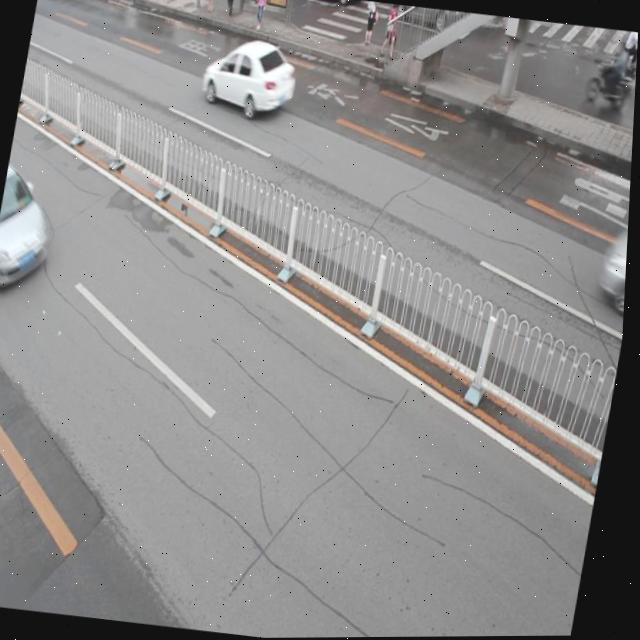car: (197, 33, 304, 119), (0, 155, 65, 294)
